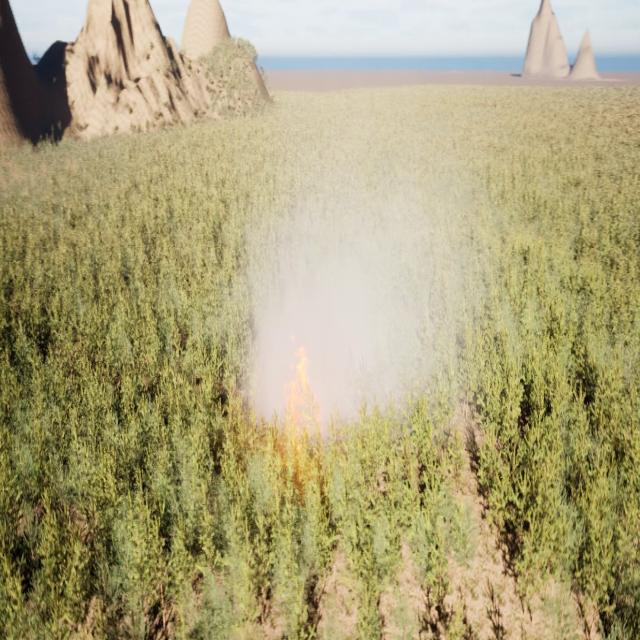fire: (284, 322, 327, 434)
smoke: (240, 149, 478, 459)
